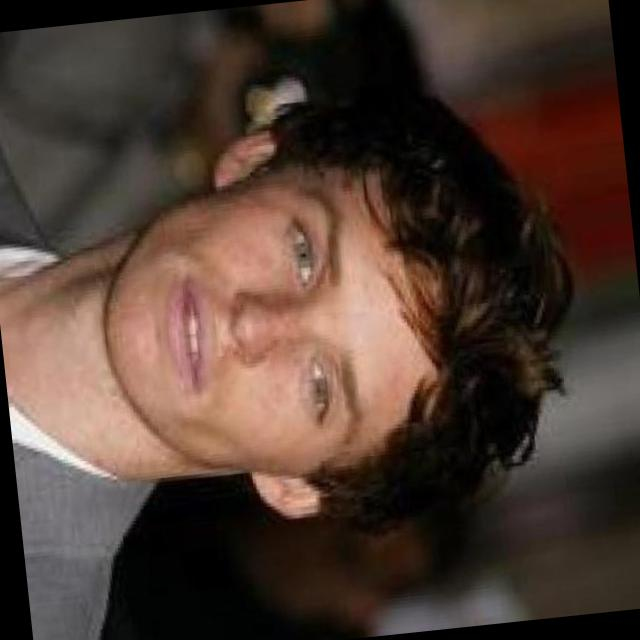bareface: (70, 106, 526, 540)
